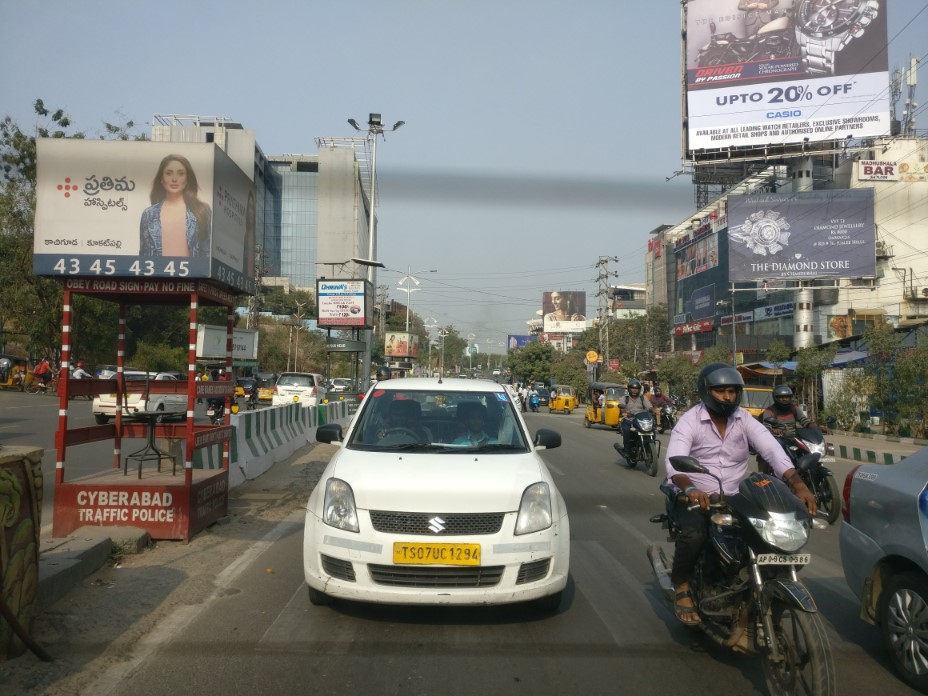swift desire: (301, 367, 584, 611)
